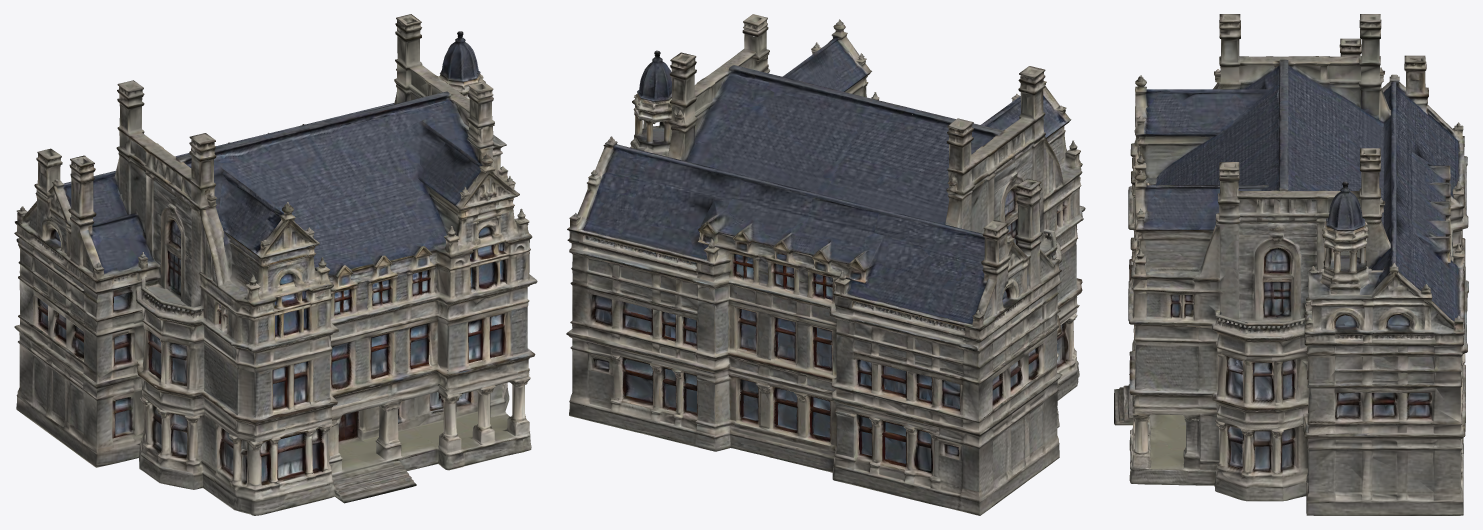
Rendered from brush.glb.
3 views of the same model, side by side, from view 1: azimuth 30°, elevation 25°; view 2: azimuth 150°, elevation 25°; view 3: azimuth 270°, elevation 25° (orthographic). The views are drawn at different scales.
Parts seen in each view (by area): view 1: tripo_node_4cd3dfb4-1af7-4719-b2db-c9656c68ab6d; view 2: tripo_node_4cd3dfb4-1af7-4719-b2db-c9656c68ab6d; view 3: tripo_node_4cd3dfb4-1af7-4719-b2db-c9656c68ab6d.
Part boxes in pixels (x1,y1,x2,y2): tripo_node_4cd3dfb4-1af7-4719-b2db-c9656c68ab6d: (14, 14, 537, 515); tripo_node_4cd3dfb4-1af7-4719-b2db-c9656c68ab6d: (566, 14, 1085, 515); tripo_node_4cd3dfb4-1af7-4719-b2db-c9656c68ab6d: (1114, 14, 1468, 515).
Bounding box in the file's own units: 0.9799 × 0.7695 × 0.7411.
1 material, 1 textured.
